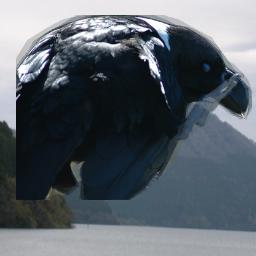Crow: (16, 15, 253, 200)
